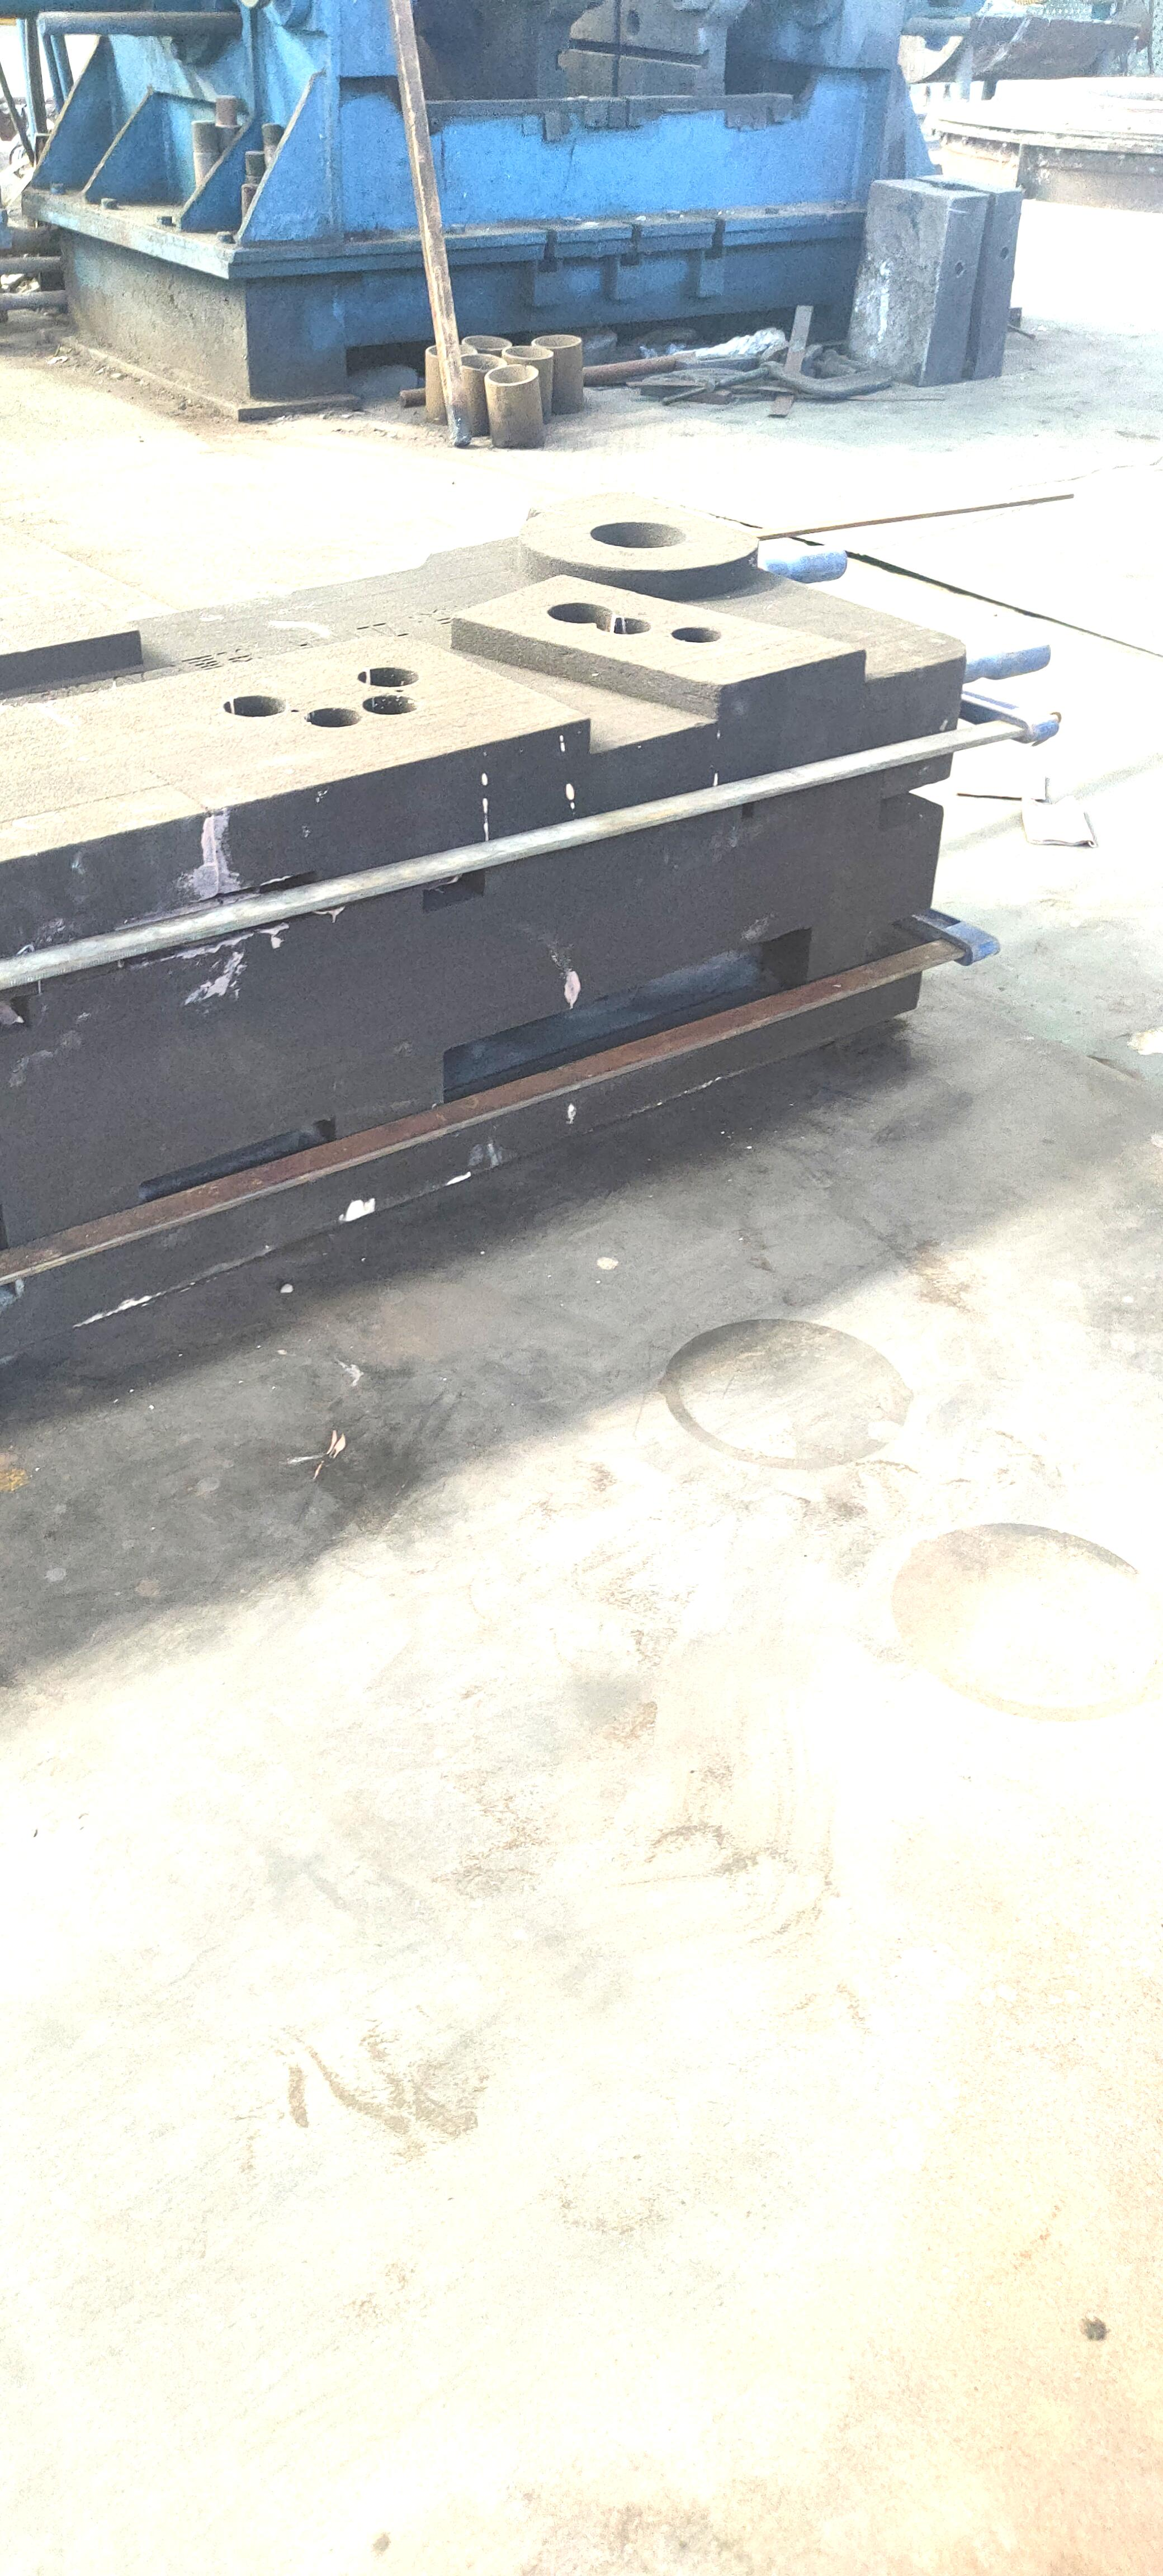pouring hole: (590, 521, 685, 549), (483, 363, 539, 386), (457, 352, 506, 373), (462, 333, 511, 352), (425, 343, 476, 358), (532, 333, 583, 348), (501, 347, 555, 360)
